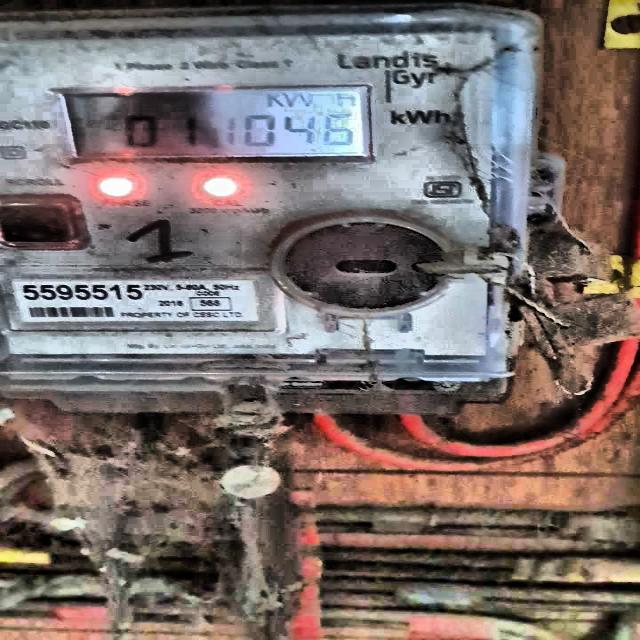Digital: (7, 13, 519, 403)
Reading: (106, 113, 364, 149)
Serial No.: (20, 284, 146, 302)
